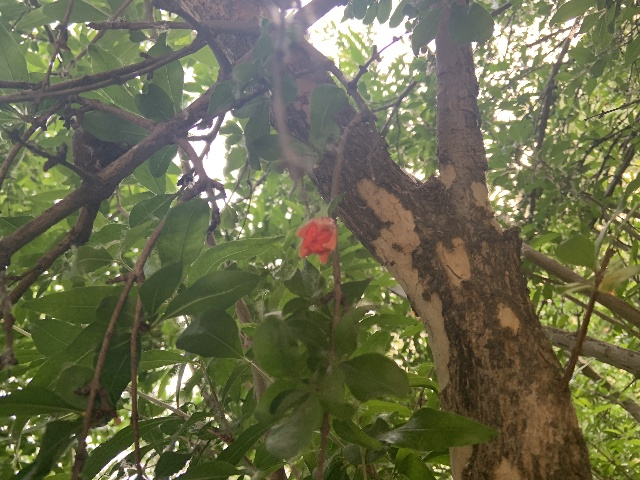flower: (295, 216, 338, 263)
